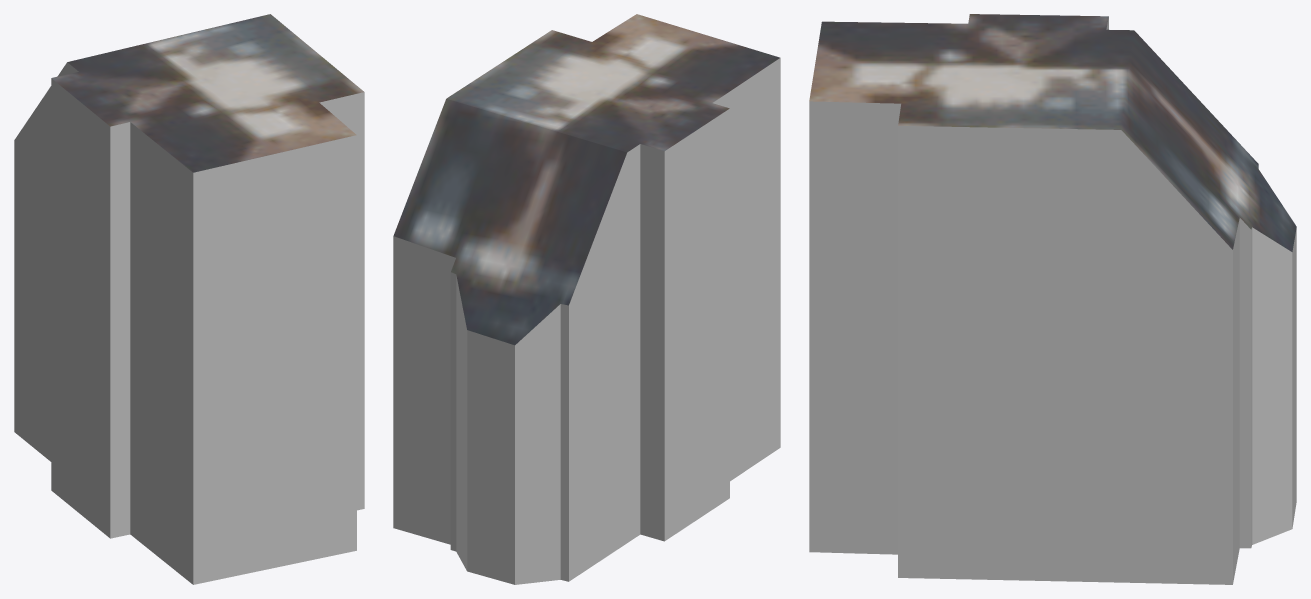
File: DEBW_0010007TvjB.gltf
3 renders of one model, left to right at view 1: azimuth 30°, elevation 25°; view 2: azimuth 150°, elevation 25°; view 3: azimuth 270°, elevation 25°, orthographic. The views are drawn at different scales.
Parts seen in each view (by area): view 1: Z_UP; view 2: Z_UP; view 3: Z_UP.
Part boxes in pixels (box(x1,y1,x2,y2)): Z_UP: box(14, 14, 364, 584); Z_UP: box(393, 14, 780, 584); Z_UP: box(809, 14, 1296, 584).
Size of the model in its own units: 10.21 by 17.37 by 16.95.
2 materials, 1 textured.
